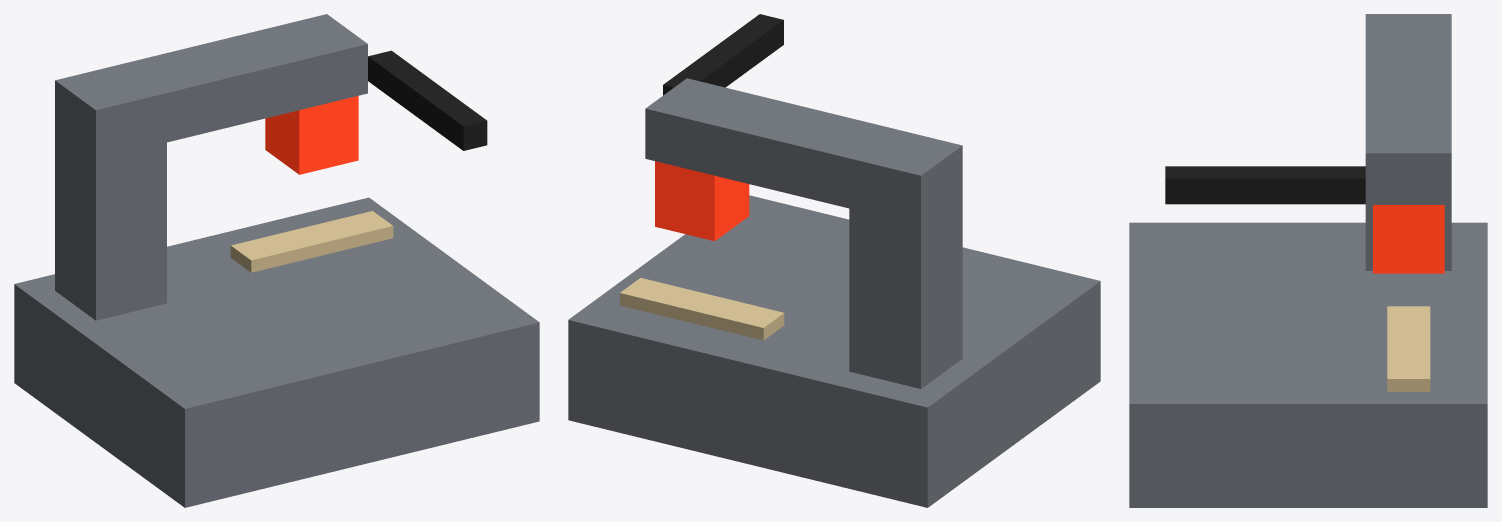
The model's file is stick_engraver.glb.
The picture shows the model from 3 angles, left to right: view 1: azimuth 30°, elevation 25°; view 2: azimuth 150°, elevation 25°; view 3: azimuth 270°, elevation 25°; orthographic projection. The views are drawn at different scales.
Visible parts, largest first — view 1: base_engraver_body, column_engraver_body, arm_engraver_body, head_engraver_hot, lever_engraver_lever, tray_stick_wood; view 2: base_engraver_body, column_engraver_body, arm_engraver_body, head_engraver_hot, tray_stick_wood, lever_engraver_lever; view 3: base_engraver_body, arm_engraver_body, lever_engraver_lever, head_engraver_hot, tray_stick_wood, column_engraver_body.
Part boxes in pixels (bbox=[...]): base_engraver_body: bbox=[14, 197, 539, 507]; column_engraver_body: bbox=[55, 63, 166, 320]; arm_engraver_body: bbox=[94, 14, 367, 150]; head_engraver_hot: bbox=[265, 96, 358, 174]; lever_engraver_lever: bbox=[368, 50, 487, 150]; tray_stick_wood: bbox=[230, 211, 393, 272]; base_engraver_body: bbox=[568, 195, 1100, 507]; column_engraver_body: bbox=[849, 128, 962, 388]; arm_engraver_body: bbox=[645, 78, 923, 216]; head_engraver_hot: bbox=[655, 161, 749, 241]; tray_stick_wood: bbox=[620, 278, 784, 340]; lever_engraver_lever: bbox=[663, 14, 783, 95]; base_engraver_body: bbox=[1129, 222, 1487, 507]; arm_engraver_body: bbox=[1365, 32, 1451, 204]; lever_engraver_lever: bbox=[1165, 166, 1365, 204]; head_engraver_hot: bbox=[1373, 205, 1444, 273]; tray_stick_wood: bbox=[1387, 306, 1430, 391]; column_engraver_body: bbox=[1365, 14, 1451, 270].
Bounding box in the file's own units: 0.3 × 0.25 × 0.25.
